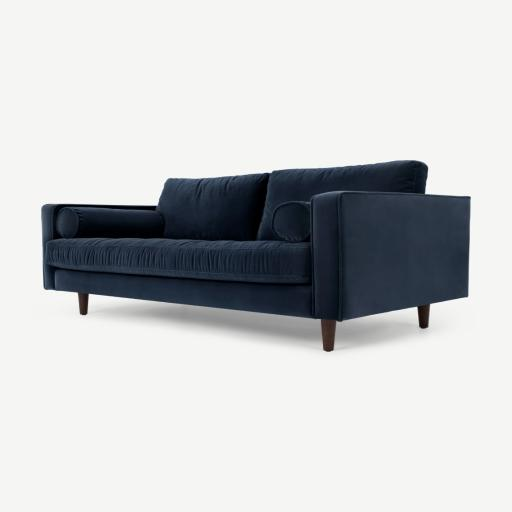back_cushion: (55, 161, 427, 242)
base: (53, 269, 312, 317)
left_arm: (311, 191, 470, 321)
legs: (321, 320, 335, 351), (418, 305, 429, 328), (78, 293, 89, 315)
right_arm: (38, 203, 155, 290)
seat_cushion: (45, 238, 311, 284)
two-seater: (0, 0, 511, 512)
